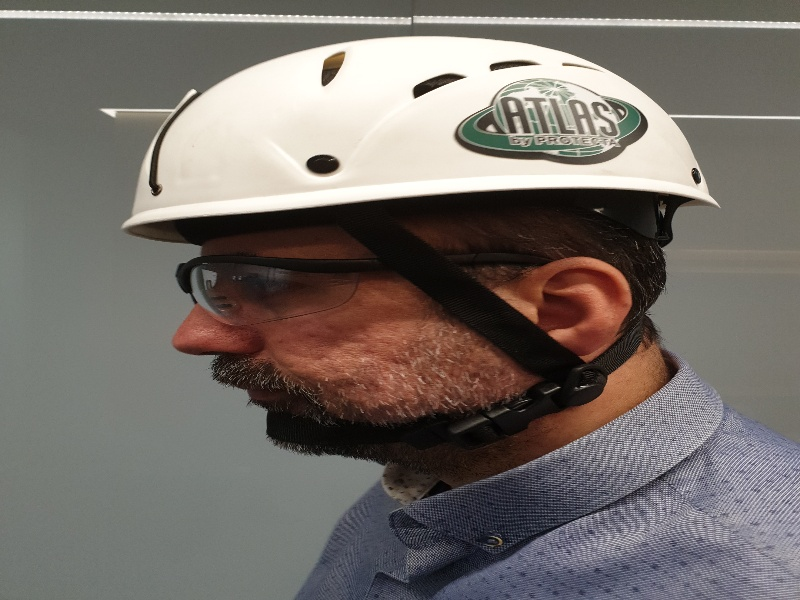Baret: (120, 37, 720, 233)
Gozluk: (175, 253, 543, 322)
